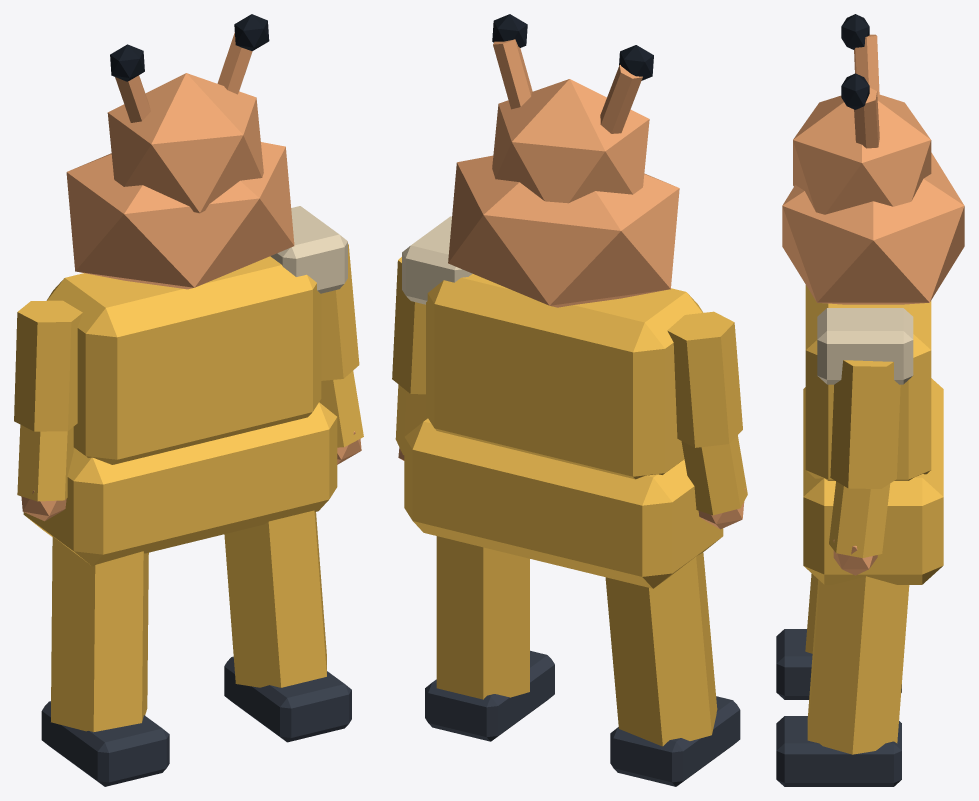
Rendered from npcs_024_seed78877.glb.
The picture shows the model from 3 angles, left to right: view 1: azimuth 30°, elevation 25°; view 2: azimuth 150°, elevation 25°; view 3: azimuth 270°, elevation 25°; orthographic projection. The views are drawn at different scales.
Parts seen in each view (by area): view 1: npcs_024_seed78877; view 2: npcs_024_seed78877; view 3: npcs_024_seed78877.
Boxes of the visible parts, x1,y1,x2,y2 form: npcs_024_seed78877: [14, 14, 363, 786]; npcs_024_seed78877: [392, 14, 747, 786]; npcs_024_seed78877: [776, 14, 964, 786].
Size of the model in its own units: 1.18 by 2.33 by 0.5781.
